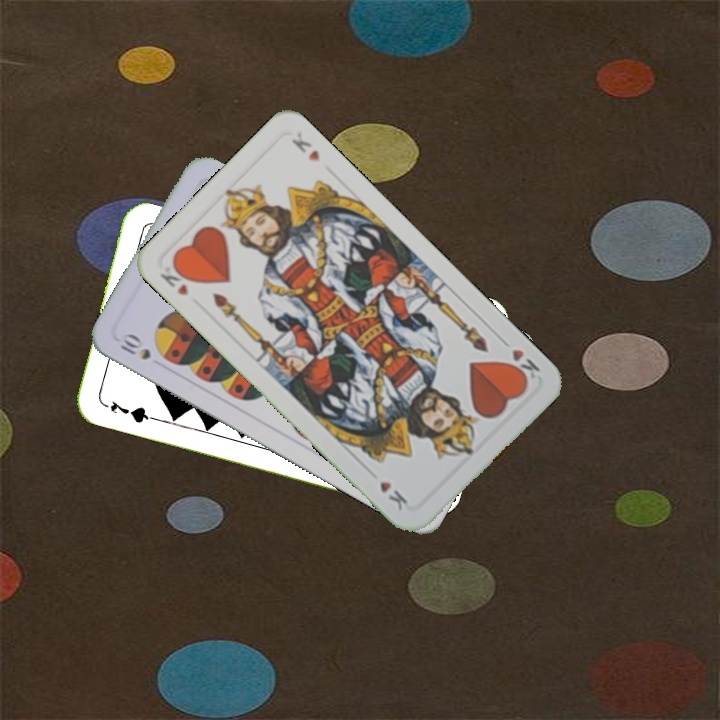G7: (106, 398, 155, 426)
HK: (503, 345, 543, 387), (156, 258, 196, 299)
S10: (116, 329, 154, 363)
